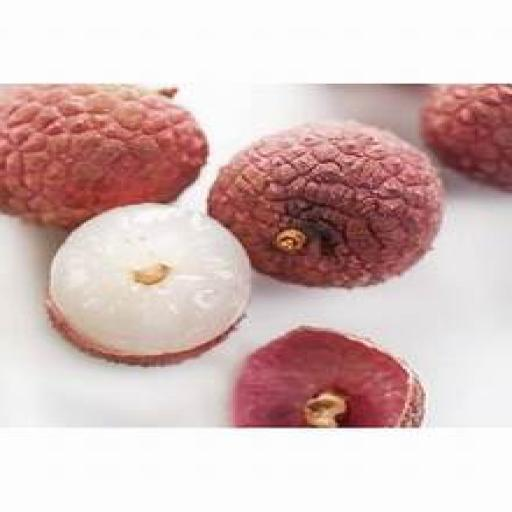lychee: (209, 122, 441, 286), (46, 205, 250, 365), (0, 84, 206, 228), (232, 328, 422, 426), (421, 86, 511, 191)
